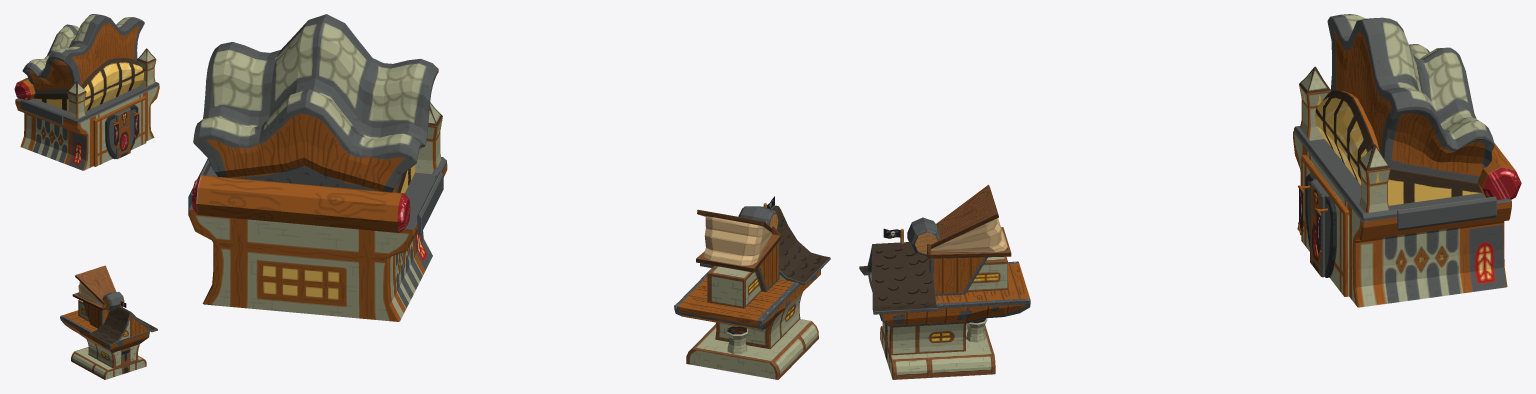
The model's file is Maison 2.fbx.
3 views of the same model, side by side, from view 1: azimuth 30°, elevation 25°; view 2: azimuth 150°, elevation 25°; view 3: azimuth 270°, elevation 25° (orthographic). The views are drawn at different scales.
Parts seen in each view (by area): view 1: Maison_2; view 2: Maison_2; view 3: Maison_2.
Part boxes in pixels (box(x1,y1,x2,y2)): Maison_2: box(14, 14, 159, 379); Maison_2: box(188, 14, 830, 379); Maison_2: box(859, 14, 1521, 379).
Bounding box in the file's own units: 53.04 × 61.96 × 85.29.
1 material, 1 textured.
